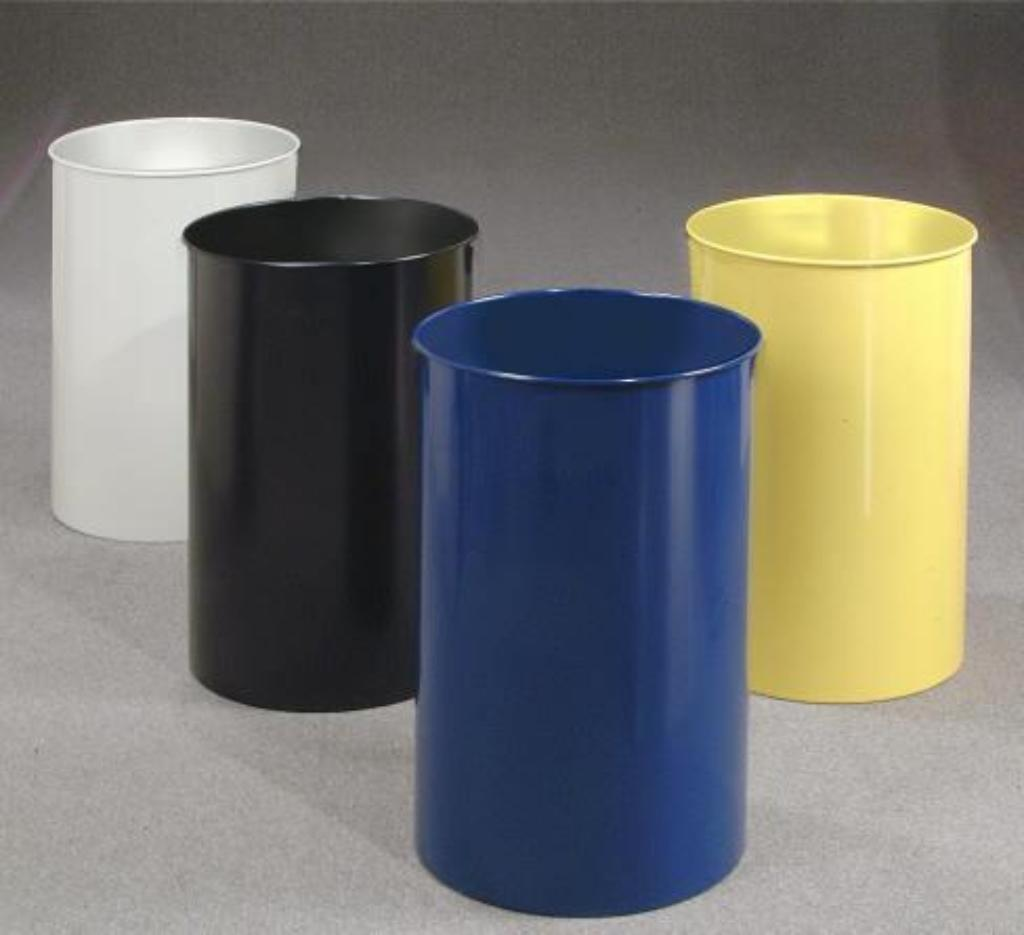dustbin: (385, 275, 772, 920), (689, 168, 993, 718), (175, 186, 481, 691), (50, 103, 302, 590)
